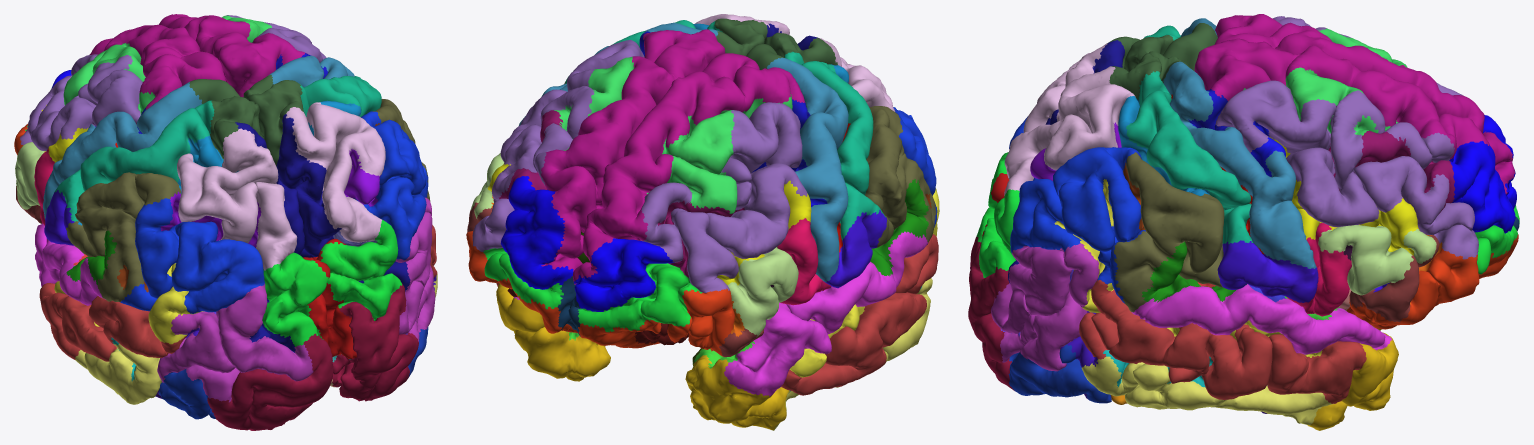
The model's file is cortex-destrieux.glb.
The picture shows the model from 3 angles, left to right: view 1: azimuth 30°, elevation 25°; view 2: azimuth 150°, elevation 25°; view 3: azimuth 270°, elevation 25°; orthographic projection. The views are drawn at different scales.
Visible parts, largest first — view 1: destrieux:left:25, destrieux:left:27, destrieux:left:19, destrieux:right:27, destrieux:left:26, destrieux:right:43, destrieux:left:38, destrieux:left:15, destrieux:left:43, destrieux:left:28, destrieux:right:25, destrieux:right:16 (+30 smaller); view 2: destrieux:left:15, destrieux:left:16, destrieux:right:16, destrieux:left:34, destrieux:right:15, destrieux:left:29, destrieux:left:38, destrieux:right:5, destrieux:left:55, destrieux:left:26, destrieux:right:44, destrieux:left:5 (+26 smaller); view 3: destrieux:right:15, destrieux:right:38, destrieux:right:25, destrieux:right:16, destrieux:right:19, destrieux:right:26, destrieux:right:29, destrieux:right:34, destrieux:right:28, destrieux:right:27, destrieux:left:16, destrieux:right:37 (+27 smaller).
Boxes of the visible parts, x1,y1,x2,y2 form: destrieux:left:25: [120, 198, 264, 313]; destrieux:left:27: [177, 128, 297, 270]; destrieux:left:19: [157, 283, 313, 402]; destrieux:right:27: [286, 102, 385, 242]; destrieux:left:26: [66, 172, 180, 301]; destrieux:right:43: [332, 283, 418, 401]; destrieux:left:38: [39, 283, 186, 361]; destrieux:left:15: [20, 54, 142, 151]; destrieux:left:43: [207, 333, 333, 430]; destrieux:left:28: [54, 100, 214, 221]; destrieux:right:25: [353, 111, 428, 260]; destrieux:right:16: [159, 14, 306, 97]; destrieux:left:15: [641, 102, 807, 292]; destrieux:left:16: [572, 53, 805, 284]; destrieux:right:16: [541, 29, 725, 271]; destrieux:left:34: [724, 231, 928, 396]; destrieux:right:15: [472, 40, 644, 251]; destrieux:left:29: [767, 57, 848, 282]; destrieux:left:38: [781, 234, 938, 395]; destrieux:right:5: [500, 176, 573, 289]; destrieux:left:55: [646, 92, 792, 213]; destrieux:left:26: [865, 106, 936, 247]; destrieux:right:44: [496, 283, 610, 381]; destrieux:left:5: [574, 238, 674, 311]; destrieux:right:15: [1215, 80, 1478, 259]; destrieux:right:38: [1079, 280, 1366, 403]; destrieux:right:25: [1010, 147, 1145, 303]; destrieux:right:16: [1194, 38, 1490, 159]; destrieux:right:19: [991, 243, 1099, 371]; destrieux:right:26: [1113, 152, 1224, 312]; destrieux:right:29: [1163, 61, 1316, 268]; destrieux:right:34: [1131, 284, 1391, 354]; destrieux:right:28: [1126, 71, 1252, 243]; destrieux:right:27: [1004, 66, 1135, 195]; destrieux:left:16: [1214, 14, 1515, 194]; destrieux:right:37: [1081, 356, 1333, 425].
Size of the model in its own units: 0.137 by 0.1163 by 0.168.
